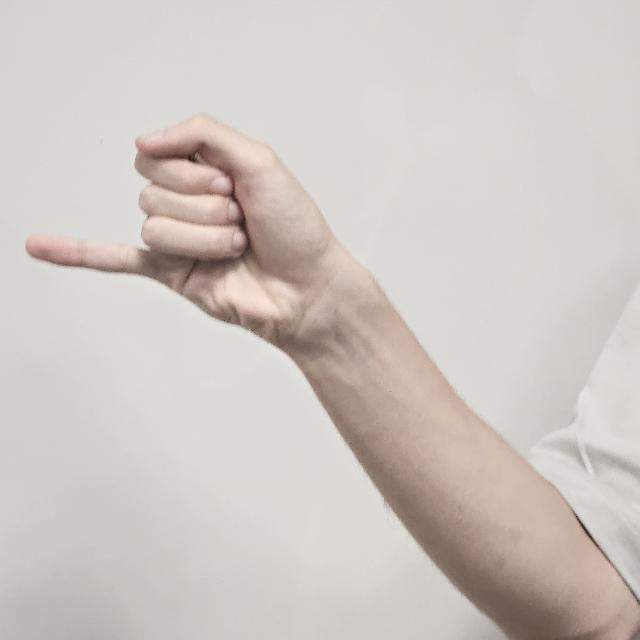Esquerda: (22, 108, 340, 372)
